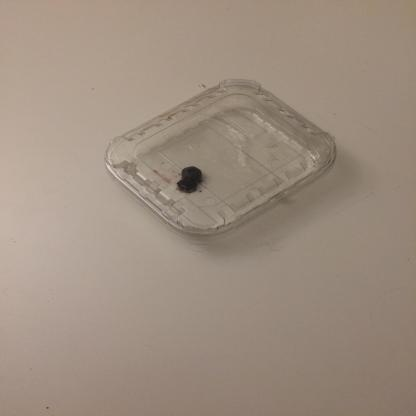Disposable food container: (104, 79, 336, 252)
Food waste: (177, 166, 202, 193)
